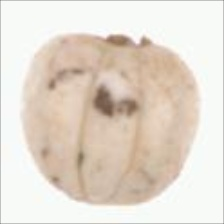L5: (74, 49, 147, 204), (85, 30, 161, 49)
L6: (21, 31, 204, 208)
